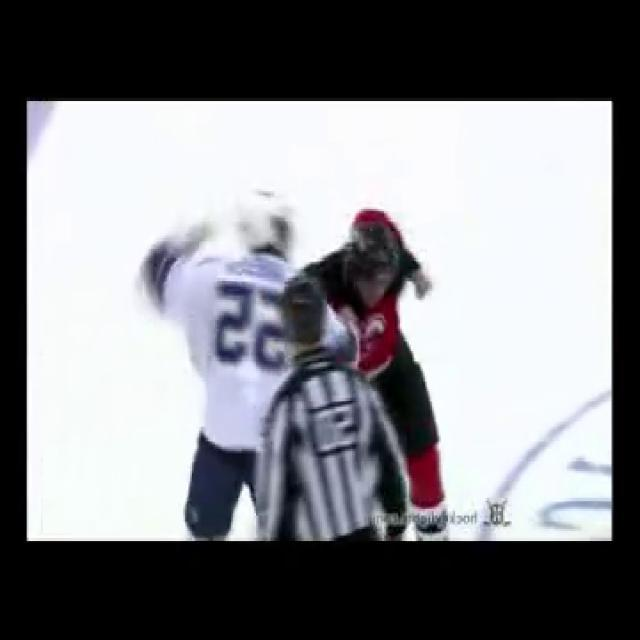non-violence: (254, 282, 408, 543)
violence: (142, 189, 444, 537)
